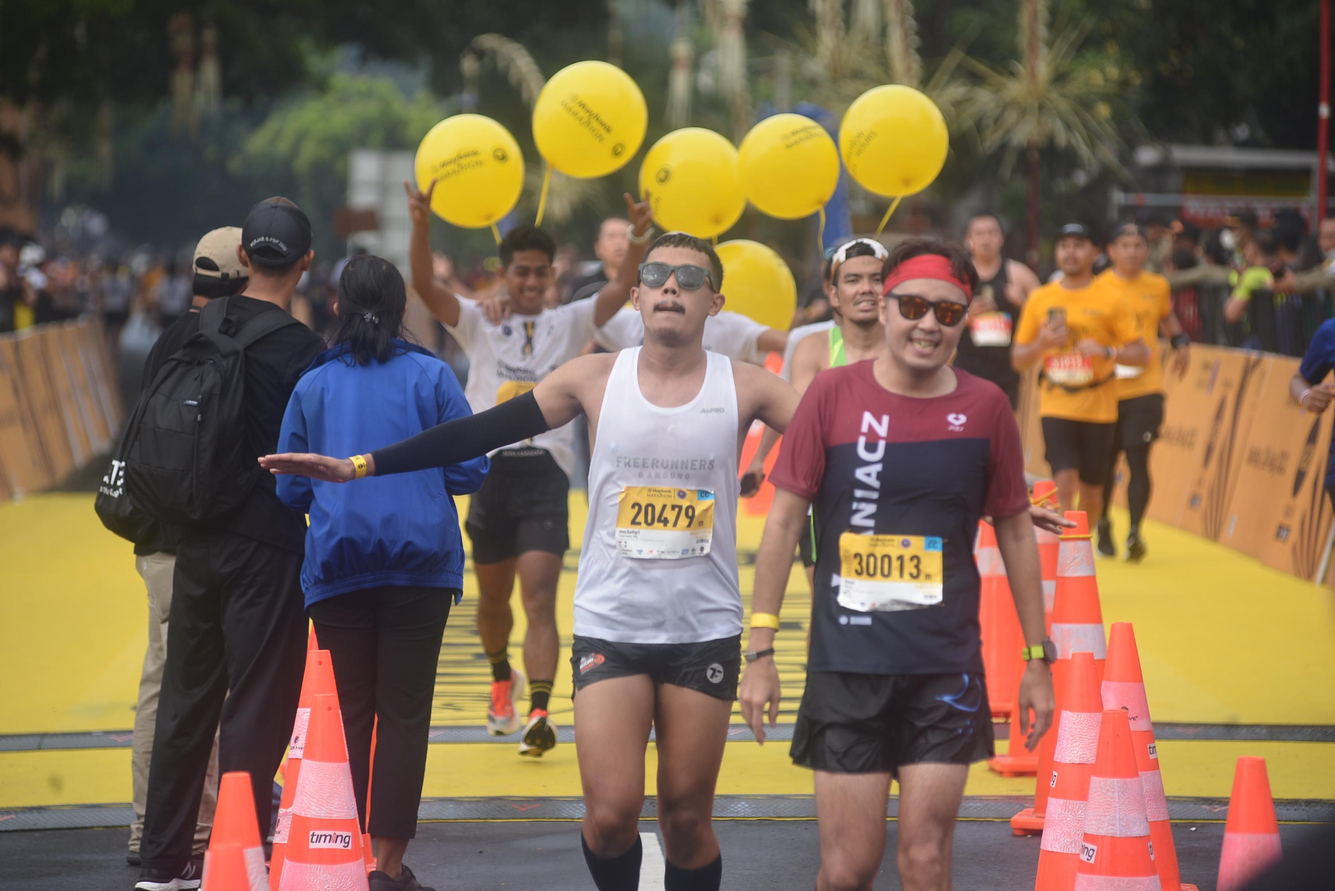bib: (840, 533, 944, 613), (614, 485, 714, 560), (1047, 347, 1094, 384), (971, 313, 1013, 345)
